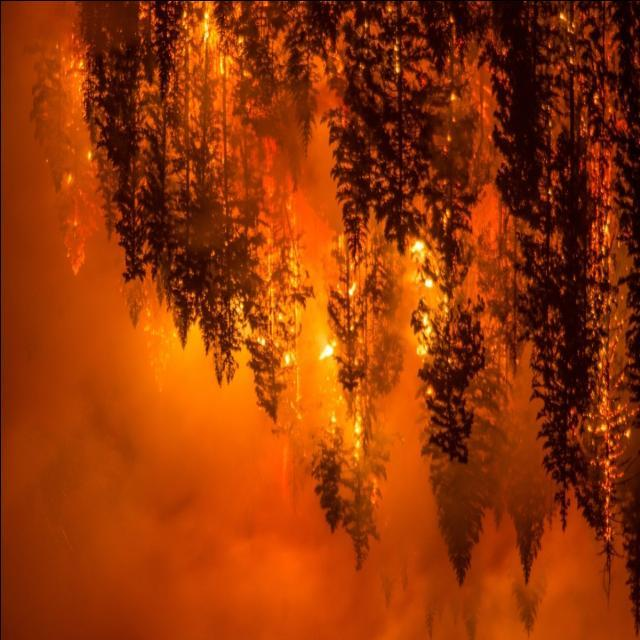Fire: (273, 236, 440, 456)
